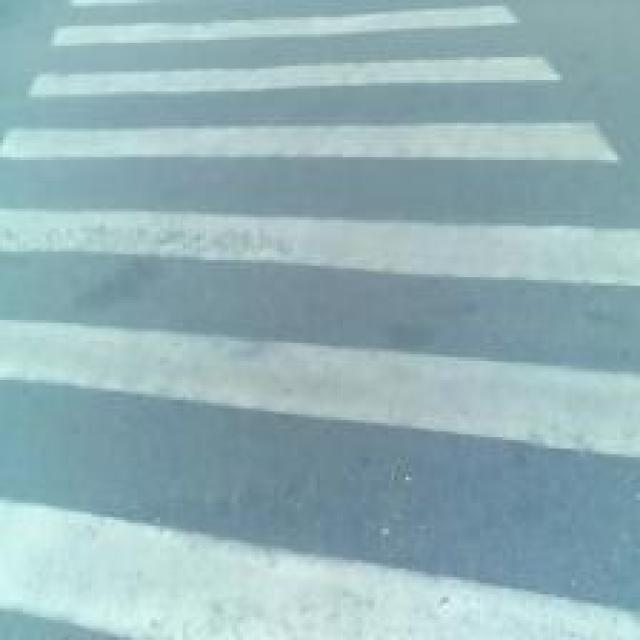walk-crossing: (56, 11, 601, 603)
